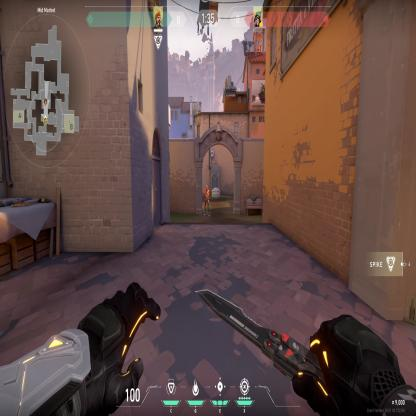enemy: (203, 183, 210, 217)
